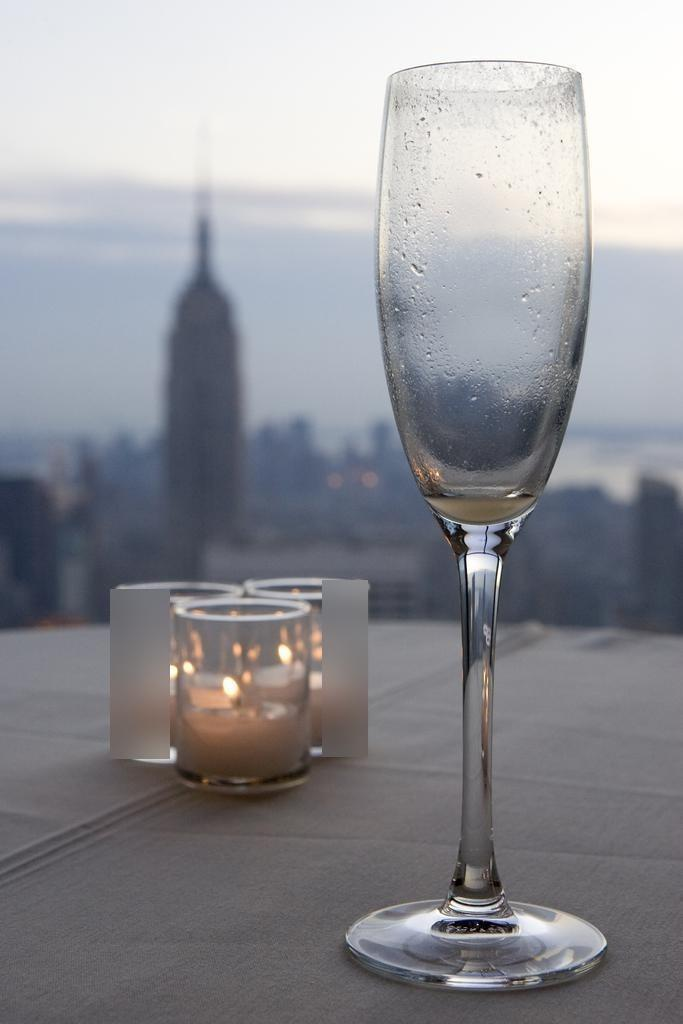glass-normal: (172, 594, 316, 793)
glass-wine: (375, 34, 609, 993)
